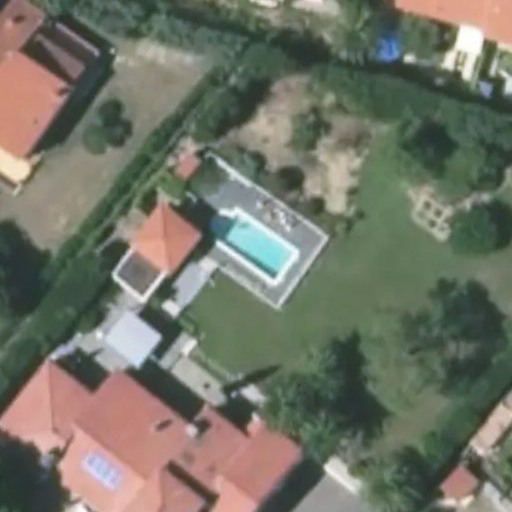pool: (206, 207, 300, 280)
